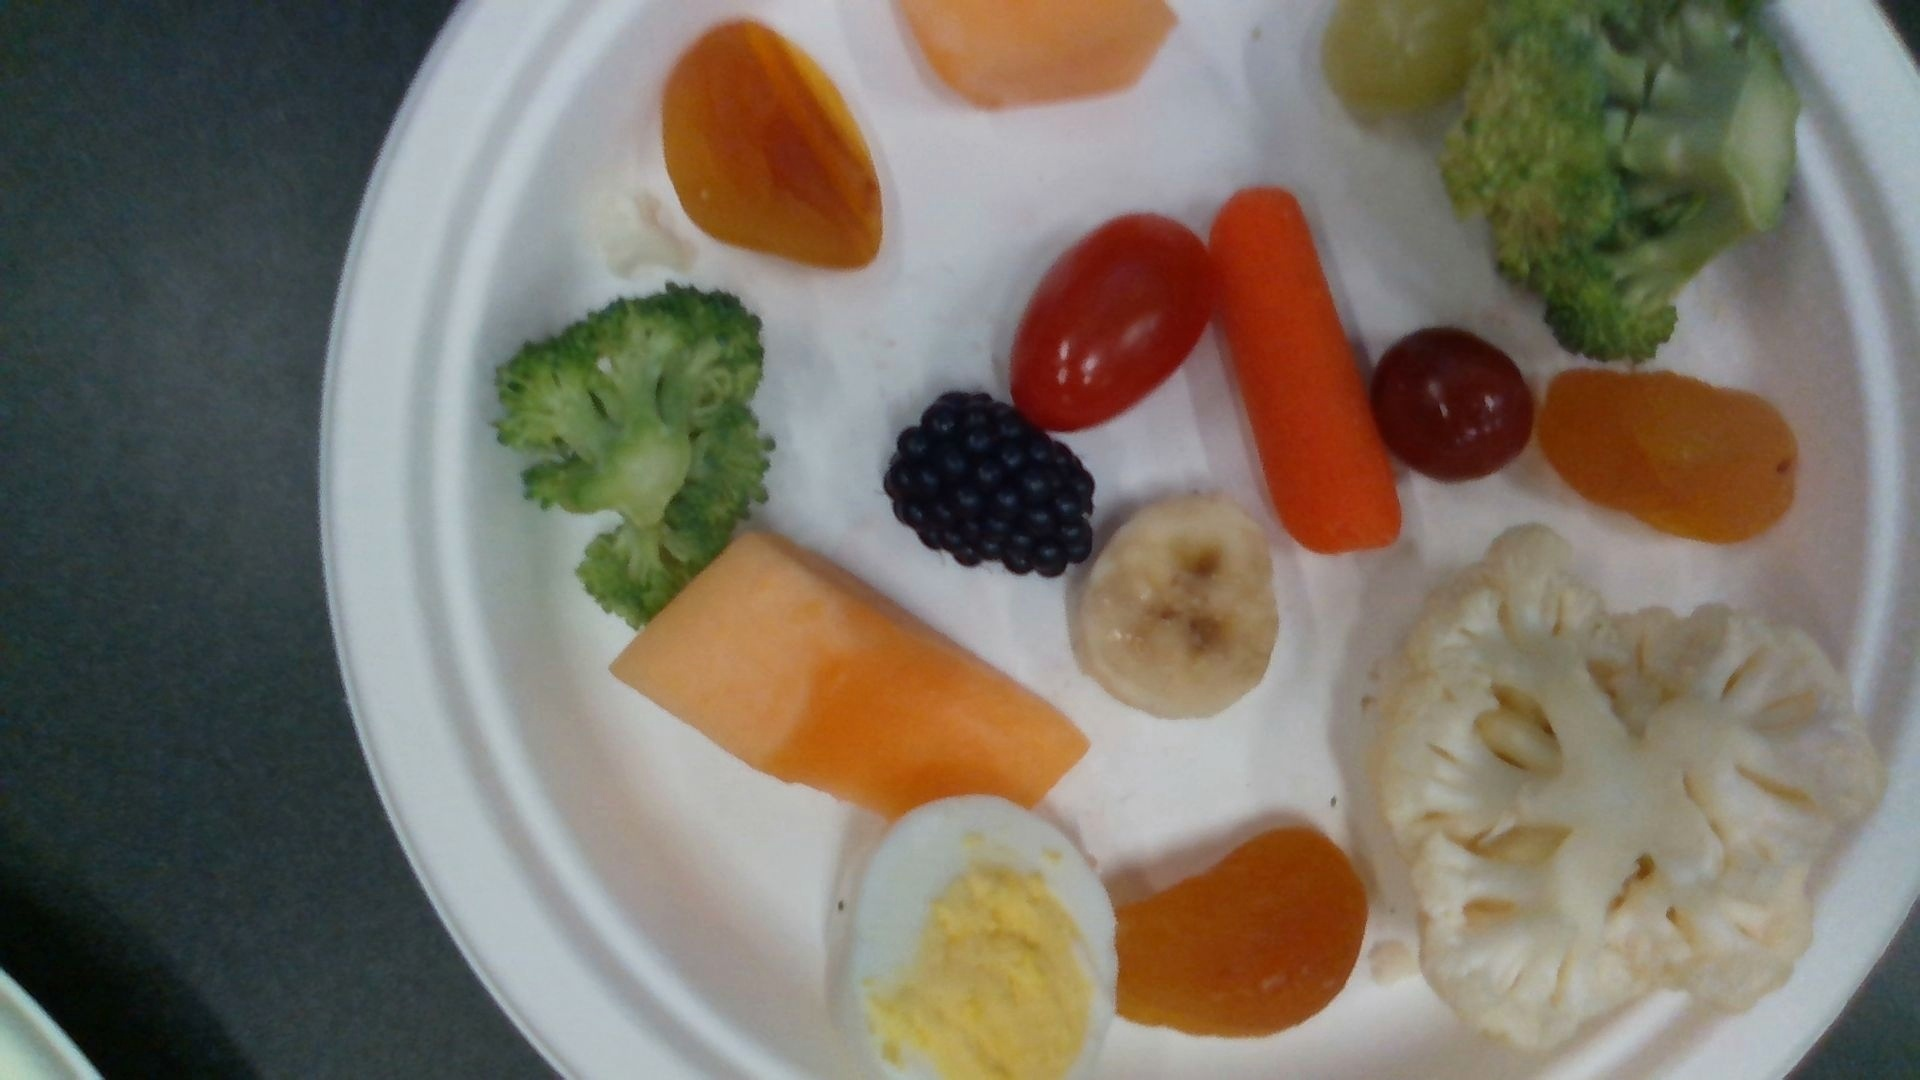apricot: (665, 25, 885, 270), (1117, 831, 1369, 1040), (1542, 371, 1800, 545)
banana: (1080, 502, 1276, 711)
blackberry: (889, 396, 1095, 574)
broccoli: (1437, 1, 1793, 361), (498, 291, 770, 626)
cantalope: (612, 535, 1087, 814), (909, 1, 1178, 105)
carrot: (1209, 190, 1400, 553)
cauliflower: (1385, 531, 1882, 1048)
cherry_tomato: (1011, 218, 1209, 433)
egg: (857, 798, 1117, 1080)
grape_green: (1325, 1, 1478, 127)
grape_purple: (1377, 330, 1535, 480)
